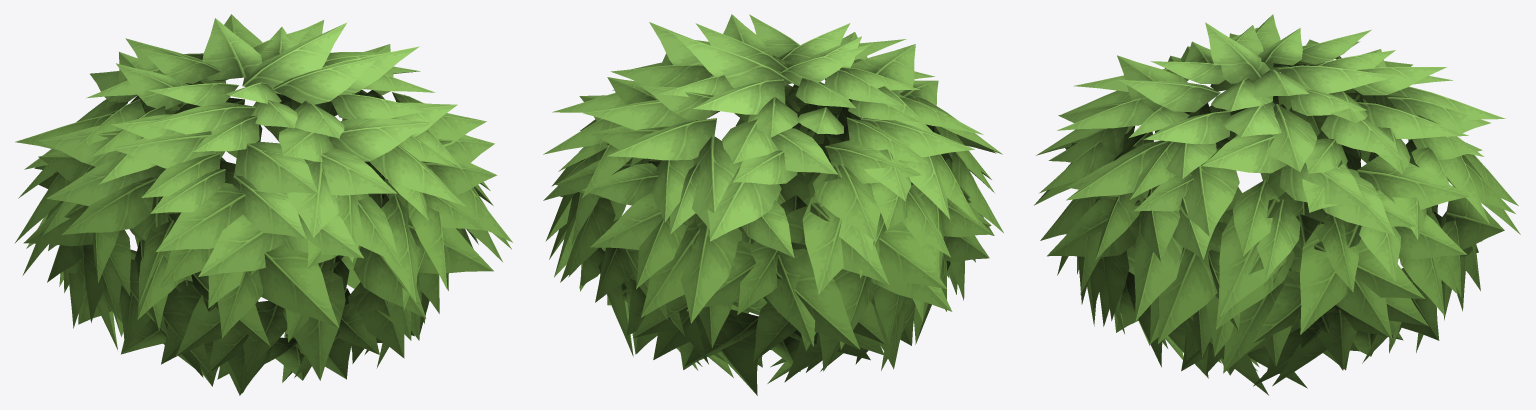
The picture shows the model from 3 angles, left to right: view 1: azimuth 30°, elevation 25°; view 2: azimuth 150°, elevation 25°; view 3: azimuth 270°, elevation 25°; orthographic projection.
Visible parts, largest first — view 1: grid_6_leaves_LOD0; view 2: grid_6_leaves_LOD0; view 3: grid_6_leaves_LOD0.
Part boxes in pixels (bbox=[...]): grid_6_leaves_LOD0: bbox=[15, 14, 512, 395]; grid_6_leaves_LOD0: bbox=[543, 14, 1003, 395]; grid_6_leaves_LOD0: bbox=[1034, 14, 1520, 395].
Size of what is drawn, in the model's own units: 1.34 by 0.9591 by 1.37.
Materials: 1 (1 with a texture image).
